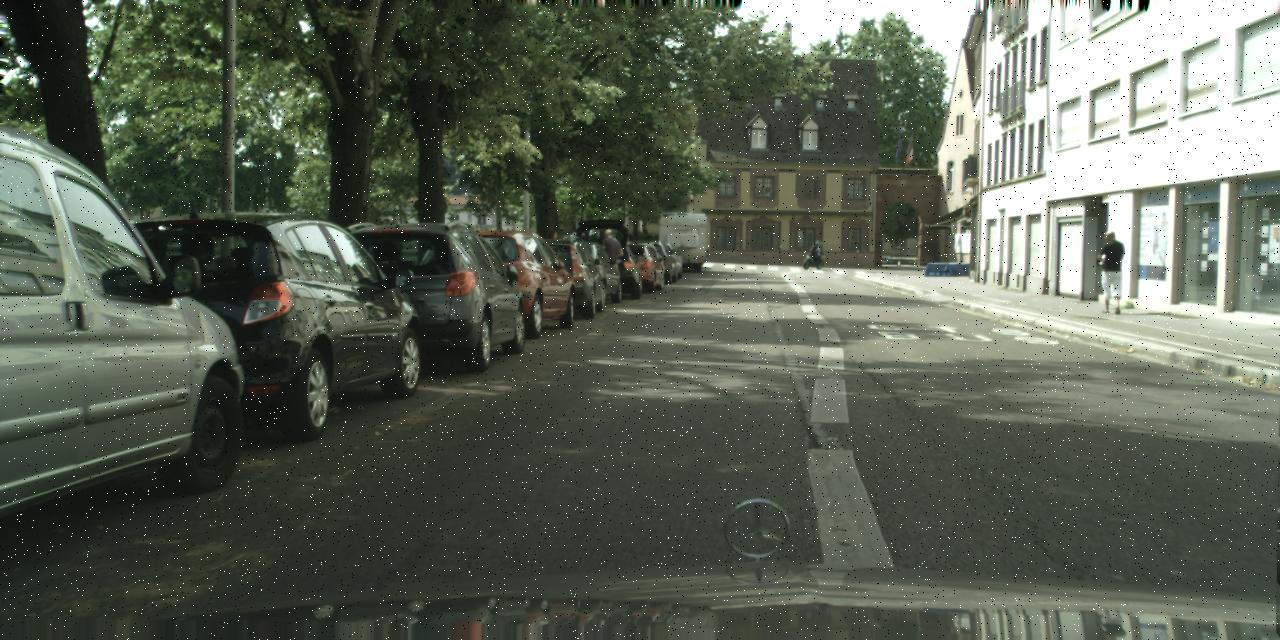ped: (1093, 230, 1127, 312), (594, 229, 622, 299), (541, 230, 568, 295), (812, 241, 822, 265)
